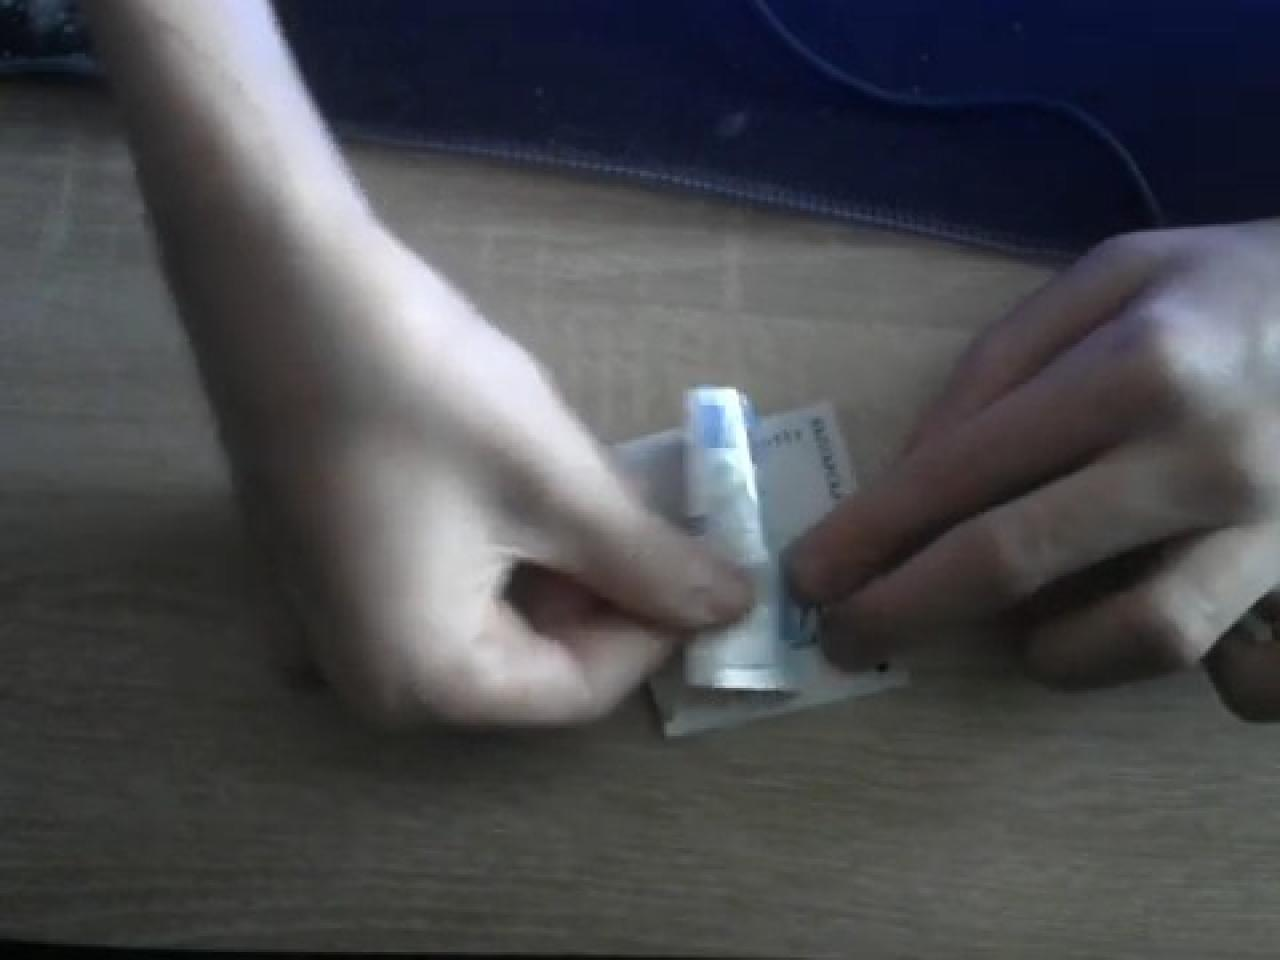20leva: (661, 386, 816, 736)
